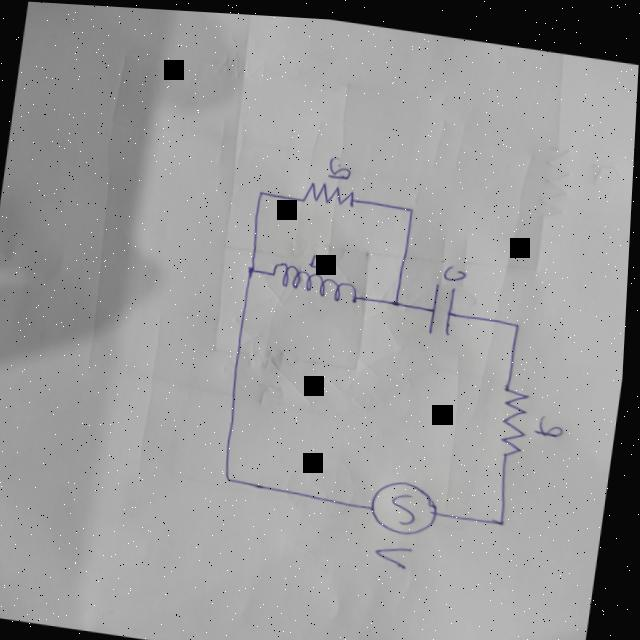capacitor: (427, 276, 463, 334)
inductor: (270, 257, 365, 302)
junction: (509, 311, 529, 329), (495, 507, 516, 524), (224, 468, 243, 484), (245, 260, 261, 276), (390, 292, 408, 305), (254, 184, 270, 197), (405, 200, 419, 211)
resistor: (495, 374, 541, 457), (300, 175, 362, 205)
source: (370, 470, 447, 535)
text: (377, 535, 420, 566), (324, 148, 357, 178), (535, 407, 571, 433), (443, 258, 471, 279), (310, 249, 332, 268)
